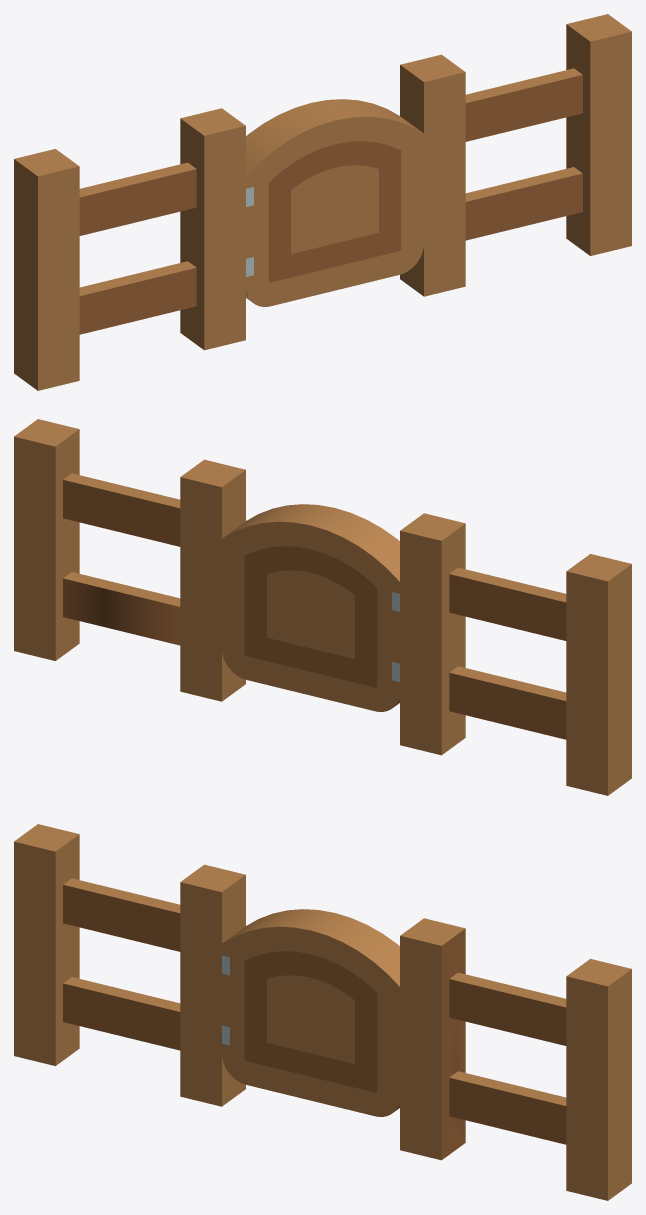
The model's file is fence_gate.glb.
3 renders of one model, top to bottom at view 1: azimuth 30°, elevation 25°; view 2: azimuth 150°, elevation 25°; view 3: azimuth 330°, elevation 25°, orthographic.
Visible parts, largest first — view 1: fence_gate, gate; view 2: fence_gate, gate; view 3: fence_gate, gate.
Boxes of the visible parts, x1,y1,x2,y2 form: fence_gate: (14, 14, 631, 390); gate: (246, 99, 423, 306); fence_gate: (14, 419, 631, 795); gate: (222, 504, 399, 711); fence_gate: (14, 824, 631, 1200); gate: (222, 909, 399, 1116).
Bounding box in the file's own units: 1 × 0.345 × 0.07.
